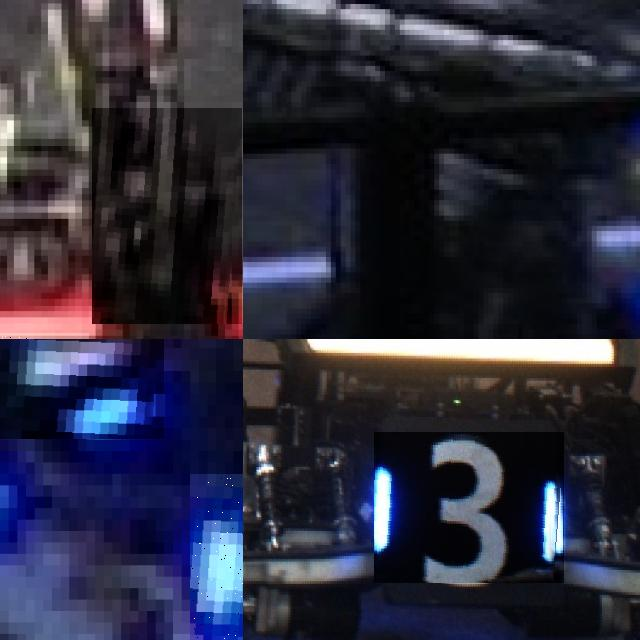B3: (374, 432, 564, 583)
B4: (0, 339, 164, 439), (190, 474, 243, 640)
R4: (92, 108, 242, 324)
